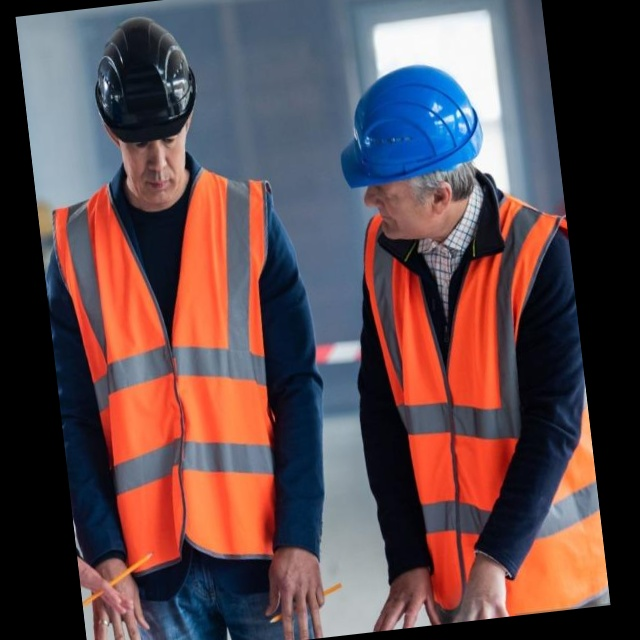Con_Casco: (329, 61, 490, 246)
Con_Chaleco: (40, 162, 306, 573), (362, 183, 608, 621)
